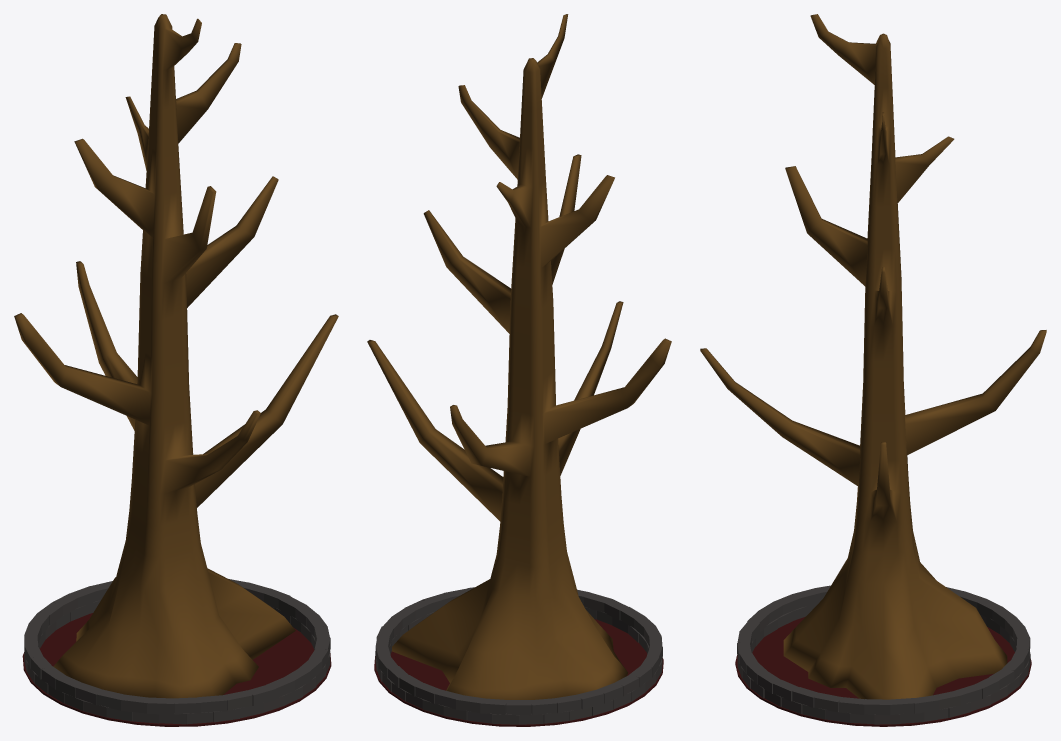
Rendered from Tree.fbx.
The picture shows the model from 3 angles, left to right: view 1: azimuth 30°, elevation 25°; view 2: azimuth 150°, elevation 25°; view 3: azimuth 270°, elevation 25°; orthographic projection. The views are drawn at different scales.
Visible parts, largest first — view 1: Tree, Pot; view 2: Tree, Pot; view 3: Tree, Pot.
Part boxes in pixels (x1,y1,x2,y2): Tree: (14, 14, 338, 698); Pot: (22, 579, 331, 726); Tree: (367, 14, 671, 699); Pot: (374, 587, 663, 726); Tree: (700, 14, 1046, 699); Pot: (735, 585, 1031, 726).
Bounding box in the file's own units: 543 × 1083 × 528.
